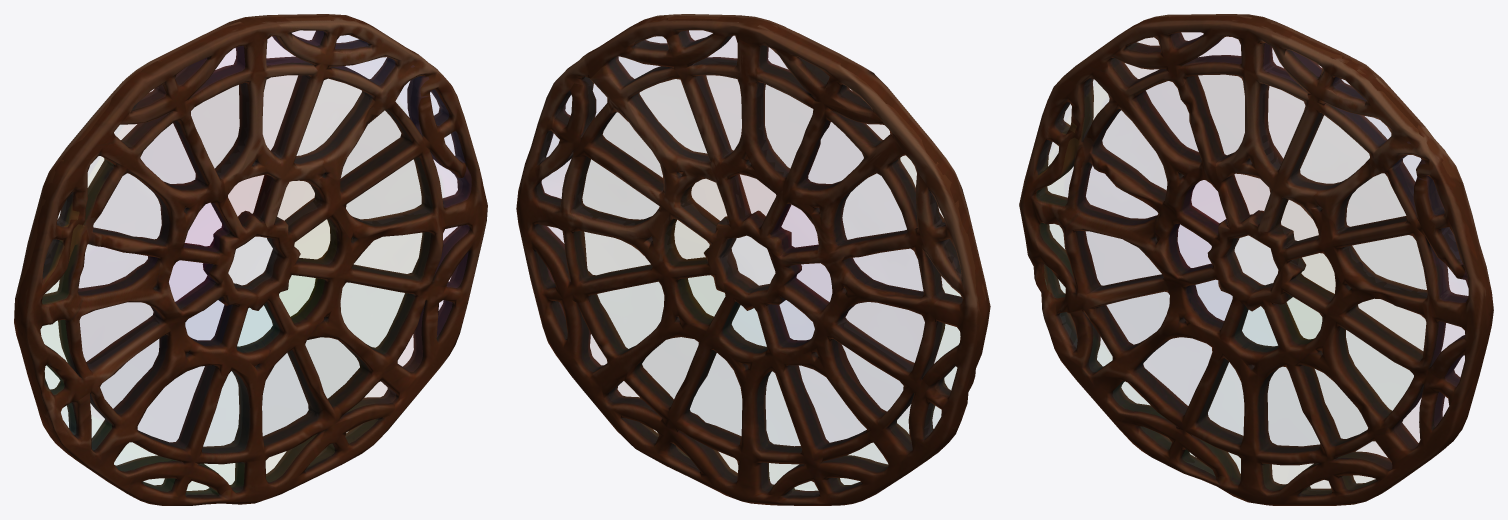
Rendered from window.glb.
3 renders of one model, left to right at view 1: azimuth 30°, elevation 25°; view 2: azimuth 150°, elevation 25°; view 3: azimuth 330°, elevation 25°, orthographic.
Visible parts, largest first — view 1: karm2, glass1; view 2: karm2, glass1; view 3: karm2, glass1.
Boxes of the visible parts, left/top/right/bottom form: karm2: left=14, top=14, right=487, bottom=505; glass1: left=41, top=31, right=462, bottom=494; karm2: left=516, top=14, right=990, bottom=505; glass1: left=541, top=31, right=960, bottom=495; karm2: left=1019, top=14, right=1493, bottom=505; glass1: left=1045, top=33, right=1467, bottom=490.
Bounding box in the file's own units: 62.04 × 61.3 × 4.32.
Materials: 2 (2 with a texture image).
